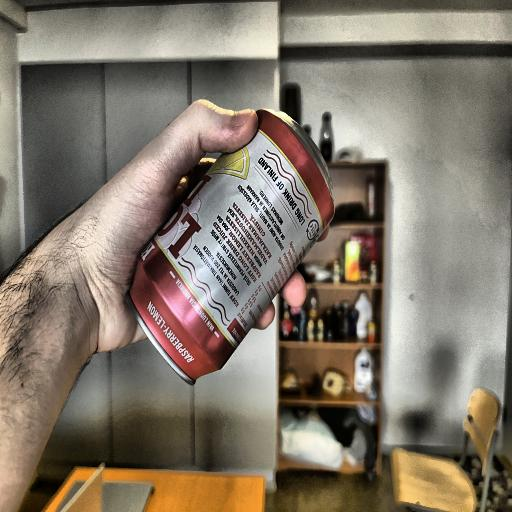koff: (128, 107, 334, 373)
